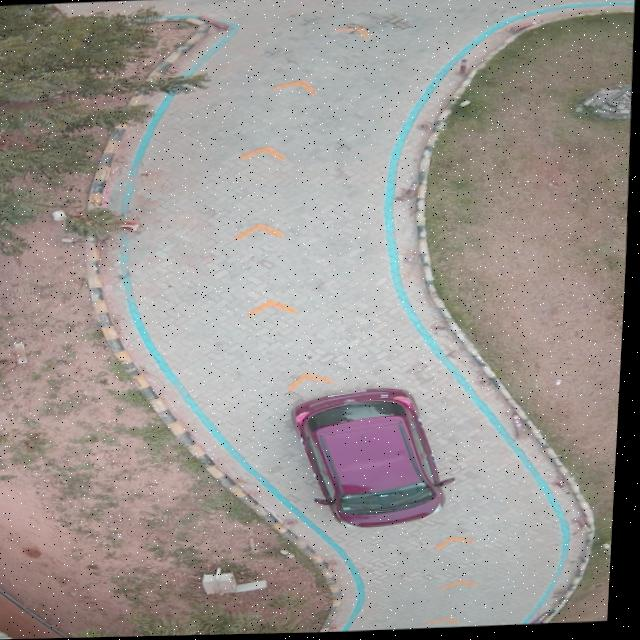car: (296, 389, 459, 530)
